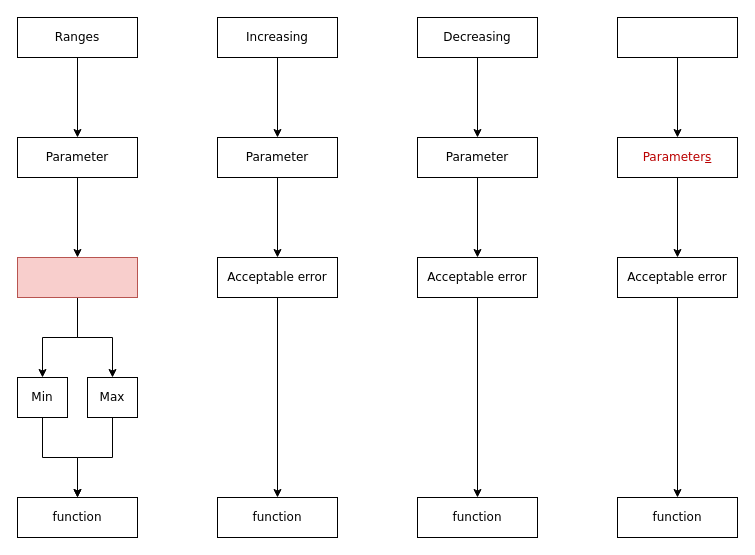
Image size: 755x555. Some labels were removed from this diagram. Here are the shapes that lost their labels. From the top down, the centre of each, then its label:
At (x=677, y=37): "DataDiff".
At (x=77, y=277): "Area".
